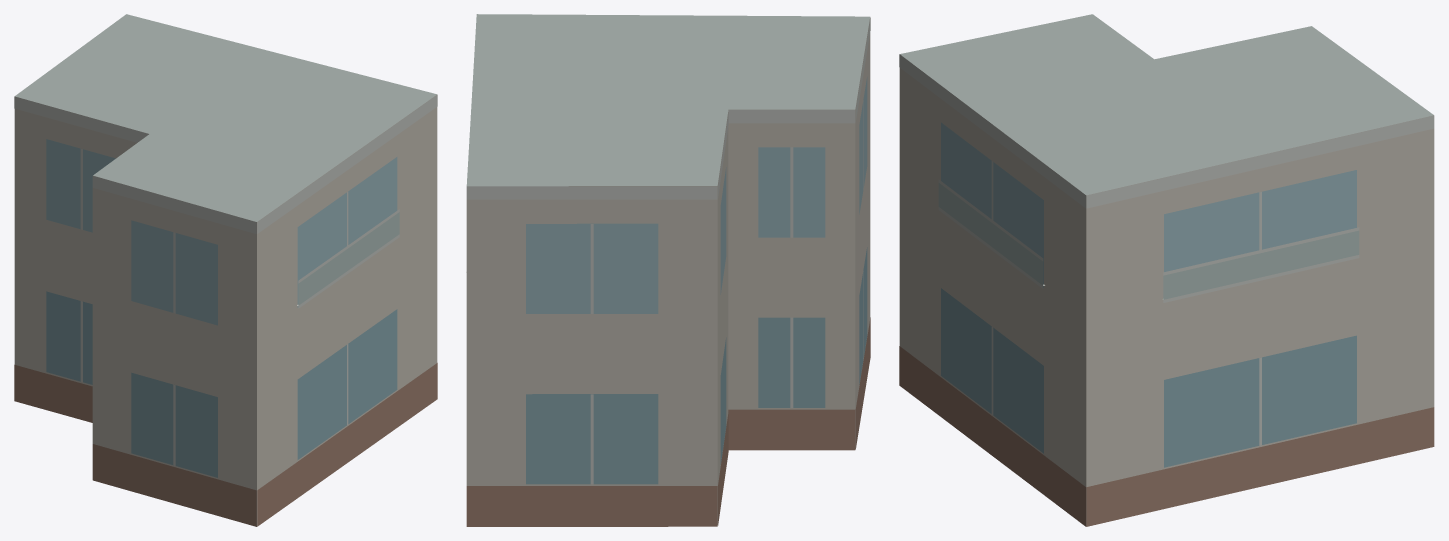
The model's file is survey-upis-32769083.glb.
3 renders of one model, left to right at view 1: azimuth 30°, elevation 25°; view 2: azimuth 150°, elevation 25°; view 3: azimuth 270°, elevation 25°, orthographic. The views are drawn at different scales.
Parts seen in each view (by area): view 1: survey-upis-32769083.tmp; view 2: survey-upis-32769083.tmp; view 3: survey-upis-32769083.tmp.
Boxes of the visible parts, left/top/right/bottom form: survey-upis-32769083.tmp: left=14, top=14, right=437, bottom=526; survey-upis-32769083.tmp: left=466, top=14, right=870, bottom=526; survey-upis-32769083.tmp: left=899, top=14, right=1434, bottom=526.
Size of the model in its own units: 7.17 by 6.1 by 8.93.
